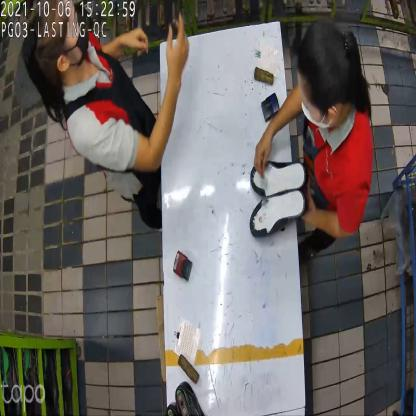shoes: (249, 152, 306, 241)
stamp: (172, 250, 194, 283), (260, 91, 280, 124)
